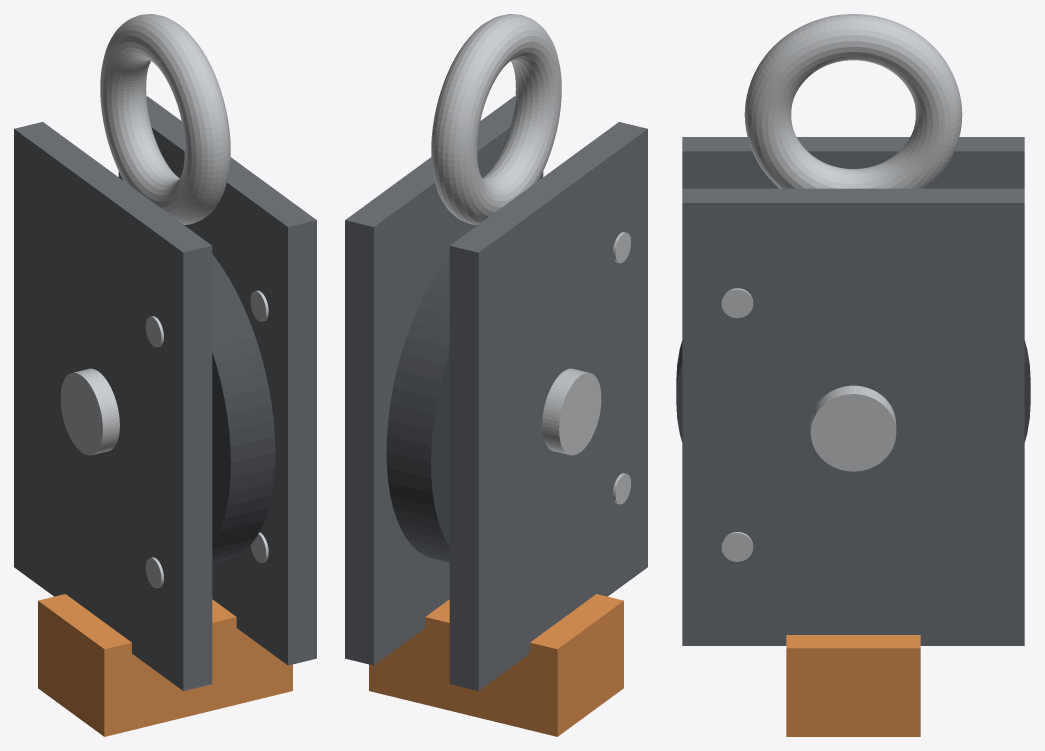
File: rescue_pulley.glb
The picture shows the model from 3 angles, left to right: view 1: azimuth 30°, elevation 25°; view 2: azimuth 150°, elevation 25°; view 3: azimuth 270°, elevation 25°; orthographic projection.
Visible parts, largest first — view 1: part_2, part_3, part_10, part_5, part_0, part_4; view 2: part_2, part_3, part_10, part_5, part_0, part_4; view 3: part_3, part_5, part_10, part_2, part_4, part_0, part_9, part_8.
Boxes of the visible parts, x1,y1,x2,y2 form: part_2: (14, 122, 212, 690); part_3: (118, 96, 316, 665); part_10: (38, 594, 292, 736); part_5: (100, 14, 230, 224); part_0: (212, 254, 275, 562); part_4: (60, 368, 119, 455); part_2: (449, 122, 647, 690); part_3: (345, 96, 543, 665); part_10: (369, 594, 623, 736); part_5: (431, 14, 561, 224); part_0: (386, 254, 449, 562); part_4: (542, 368, 601, 455); part_3: (682, 188, 1024, 645); part_5: (744, 14, 962, 188); part_10: (786, 635, 920, 736); part_2: (682, 137, 1024, 188); part_4: (810, 385, 896, 471); part_0: (676, 340, 1030, 442); part_9: (721, 288, 753, 318); part_8: (721, 532, 753, 561).
Size of the model in its own units: 0.36 by 1.22 by 0.58.
